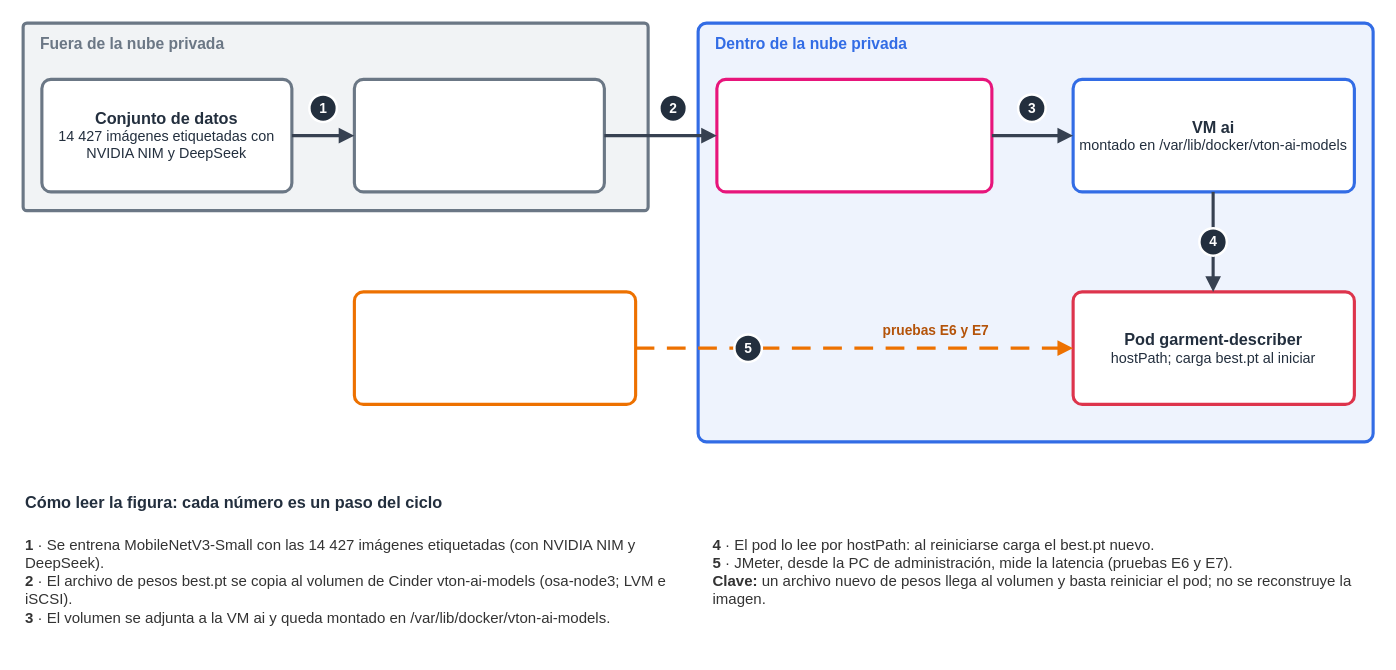
This 1396x670 diagram has some shape labels left out. Each missing label, with the centre of its shape:
"Entrenamiento MobileNetV3-Small · genera best.pt" goes at (478,135).
"JMeter (PC de administración) mide la latencia por ssh -L y port-forward" goes at (494,347).
"Volumen de Cinder vton-ai-models · osa-node3 (LVM, iSCSI)" goes at (854,135).
